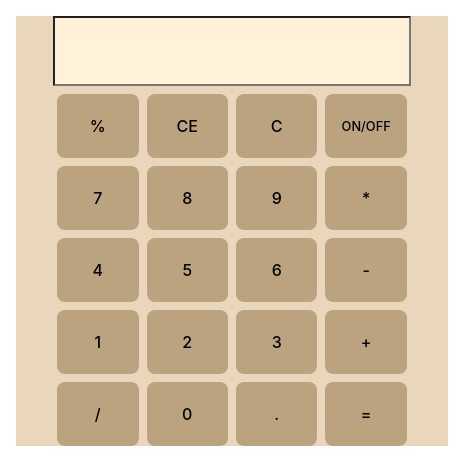
Calculator › should user cliking a several number
The image size is (465, 463).
Click the button "1" at (98, 342), box x1=57 y1=310 x2=138 y2=374
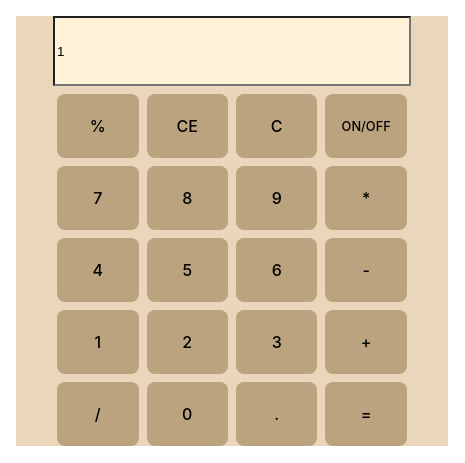
Click the button "2" at (187, 342), box x1=146 y1=310 x2=228 y2=374
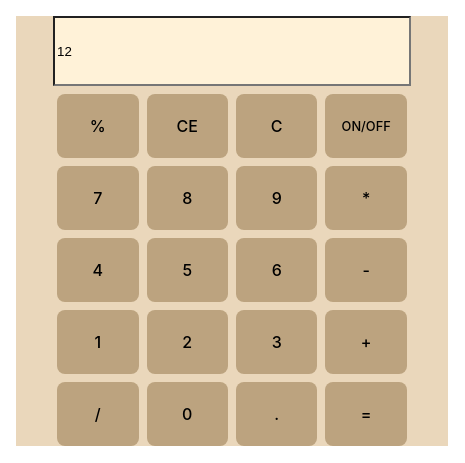
Click the button "3" at (277, 342), box x1=236 y1=310 x2=318 y2=374
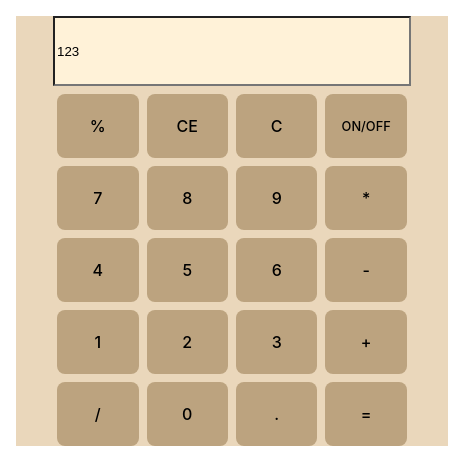
Now the field holds "123", box x1=53 y1=16 x2=411 y2=86
